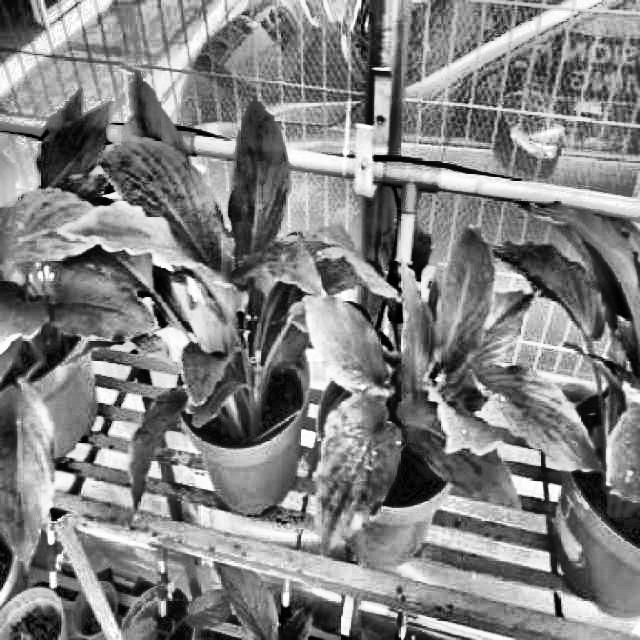plants: (99, 71, 384, 517), (303, 226, 603, 559), (1, 86, 161, 574)
